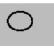no answer: (5, 9, 34, 33)
